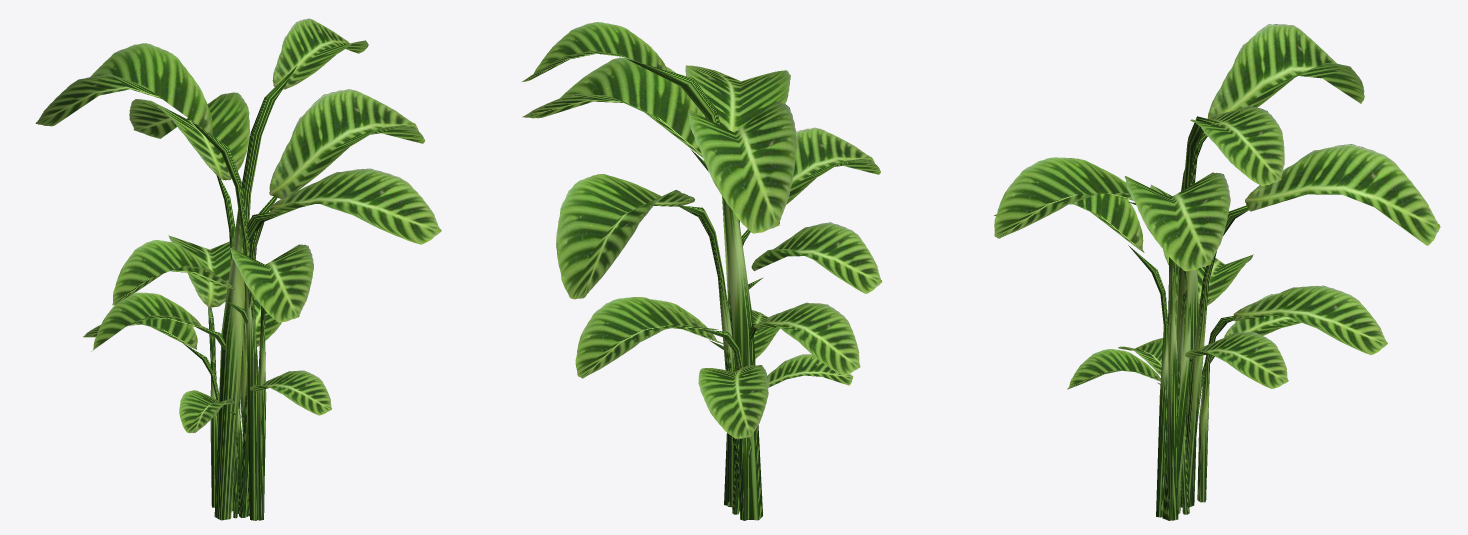
Rendered from Plant_BroadLeaf1.fbx.
3 views of the same model, side by side, from view 1: azimuth 30°, elevation 25°; view 2: azimuth 150°, elevation 25°; view 3: azimuth 270°, elevation 25° (orthographic). The views are drawn at different scales.
Parts seen in each view (by area): view 1: Plane.000; view 2: Plane.000; view 3: Plane.000.
Part boxes in pixels (box(x1,y1,x2,y2)): Plane.000: box(35, 18, 441, 520); Plane.000: box(522, 22, 882, 520); Plane.000: box(994, 24, 1440, 520).
Bounding box in the file's own units: 337 × 403 × 405.
